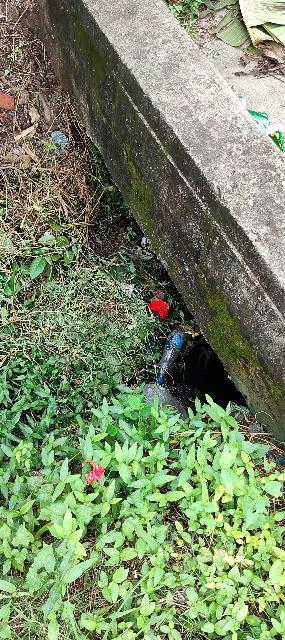bottle: (155, 324, 183, 384)
